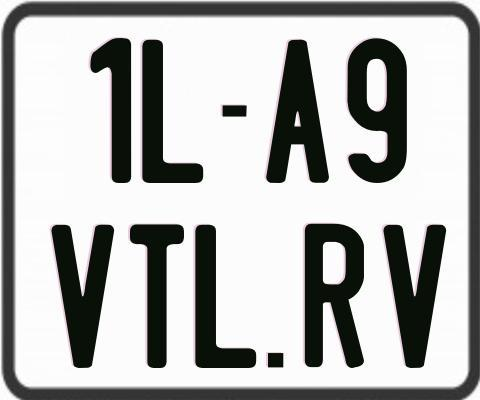1: (89, 37, 130, 187)
9: (346, 36, 407, 185)
A: (263, 37, 330, 184)
L: (192, 225, 259, 373), (141, 39, 205, 187)
R: (305, 223, 367, 370)
T: (127, 224, 181, 371)
V: (381, 225, 446, 373), (51, 222, 116, 369)
